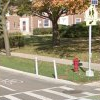crosswalk: (0, 86, 91, 100)
